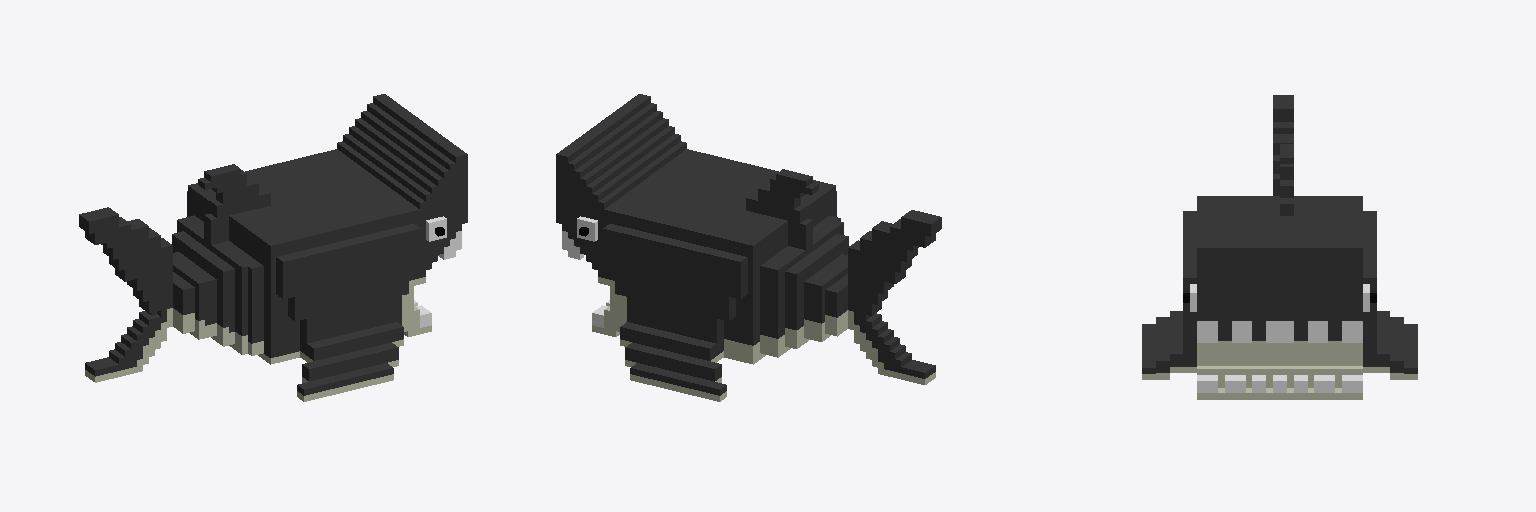
3 views of the same model, side by side, from view 1: azimuth 30°, elevation 25°; view 2: azimuth 150°, elevation 25°; view 3: azimuth 270°, elevation 25° (orthographic).
Bounding box in the file's own units: 57 × 29 × 40.
1 materials, 1 textured.